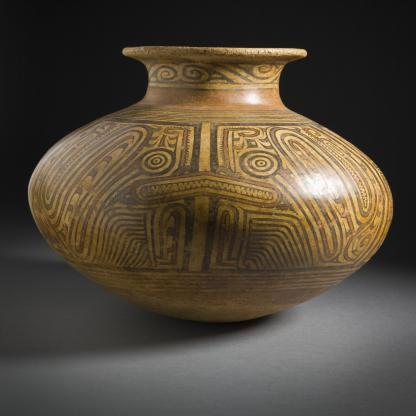vase: (26, 44, 394, 324)
